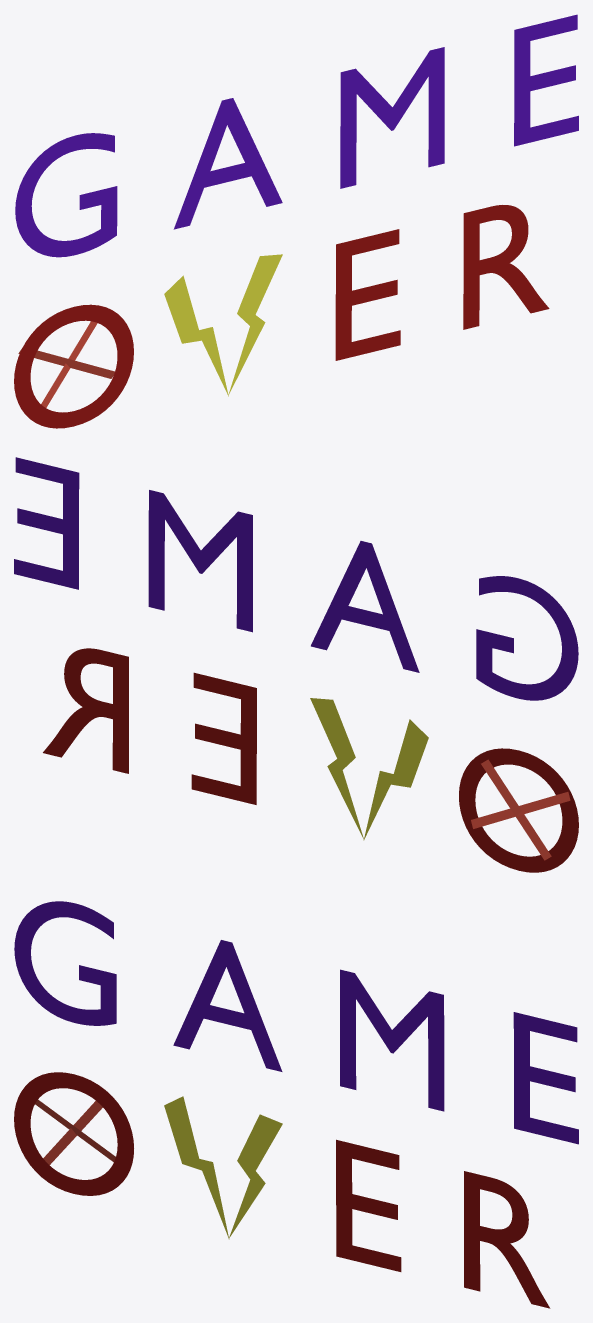
File: 3DGameover.obj
3 views of the same model, one above another, from view 1: azimuth 30°, elevation 25°; view 2: azimuth 150°, elevation 25°; view 3: azimuth 330°, elevation 25° (orthographic).
Visible parts, largest first — view 1: 平面.001; view 2: 平面.001; view 3: 平面.001.
Part boxes in pixels (box(x1,y1,x2,y2)): 平面.001: box(14, 14, 578, 428); 平面.001: box(14, 457, 578, 872); 平面.001: box(14, 901, 578, 1308).
Bounding box in the file's own units: 3.45 × 1.75 × 0.0514.
Materials: 1 (1 with a texture image).
